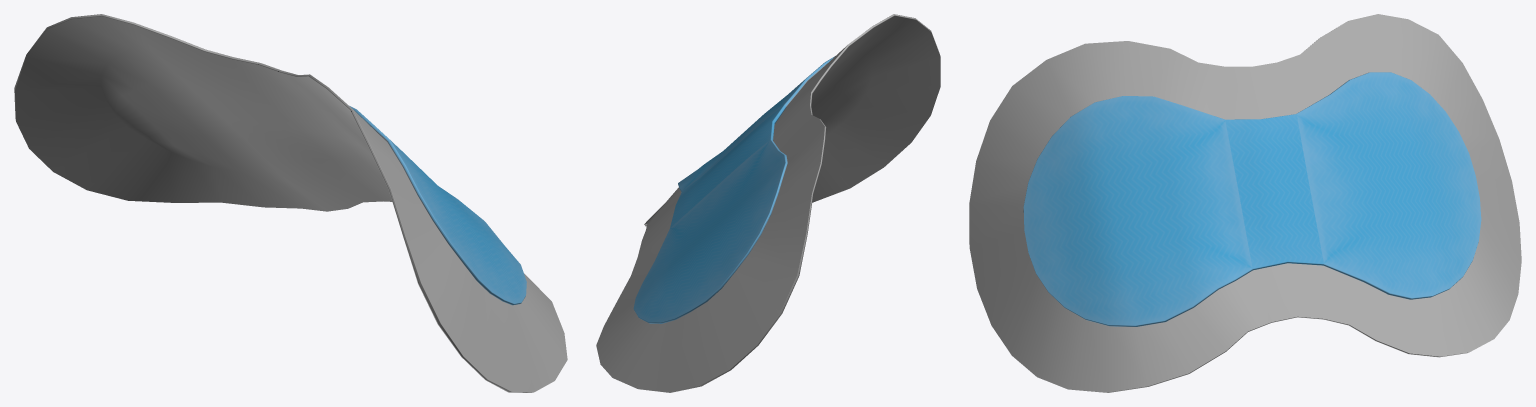
Rendered from bandV01.fbx.
3 views of the same model, side by side, from view 1: azimuth 30°, elevation 25°; view 2: azimuth 150°, elevation 25°; view 3: azimuth 270°, elevation 25° (orthographic). The views are drawn at different scales.
Visible parts, largest first — view 1: bandV01; view 2: bandV01; view 3: bandV01.
Part boxes in pixels (x1,y1,x2,y2): bandV01: (14, 14, 567, 392); bandV01: (596, 14, 940, 392); bandV01: (969, 14, 1521, 392).
Size of the model in its own units: 8.51 by 7 by 13.35.
2 materials, 1 textured.
